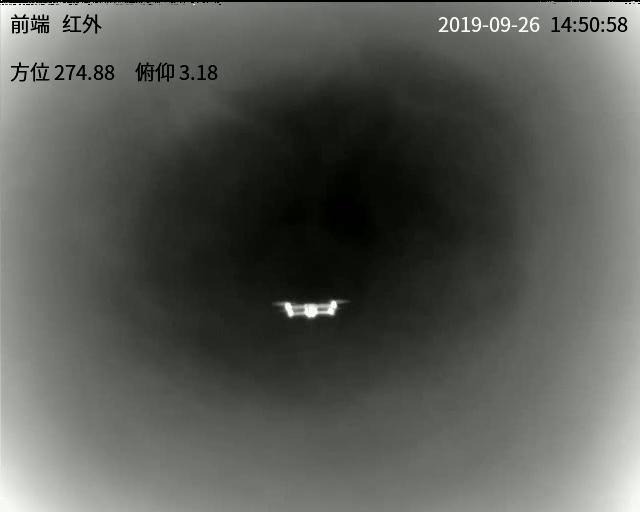DRONE: (278, 297, 343, 320)
